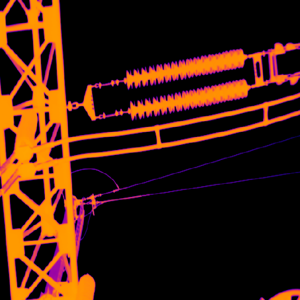insulator: (124, 47, 249, 86), (127, 78, 247, 118)
